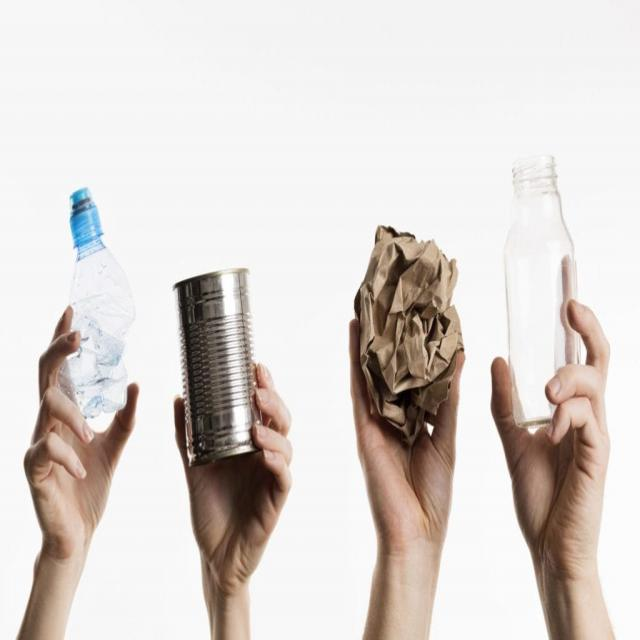metal: (171, 267, 263, 468)
paper: (352, 220, 467, 450)
plastic: (63, 186, 139, 439)
